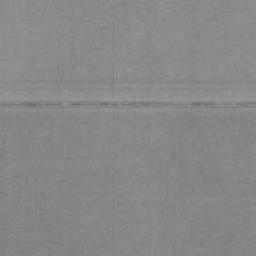Welding line: (0, 100, 256, 110)
